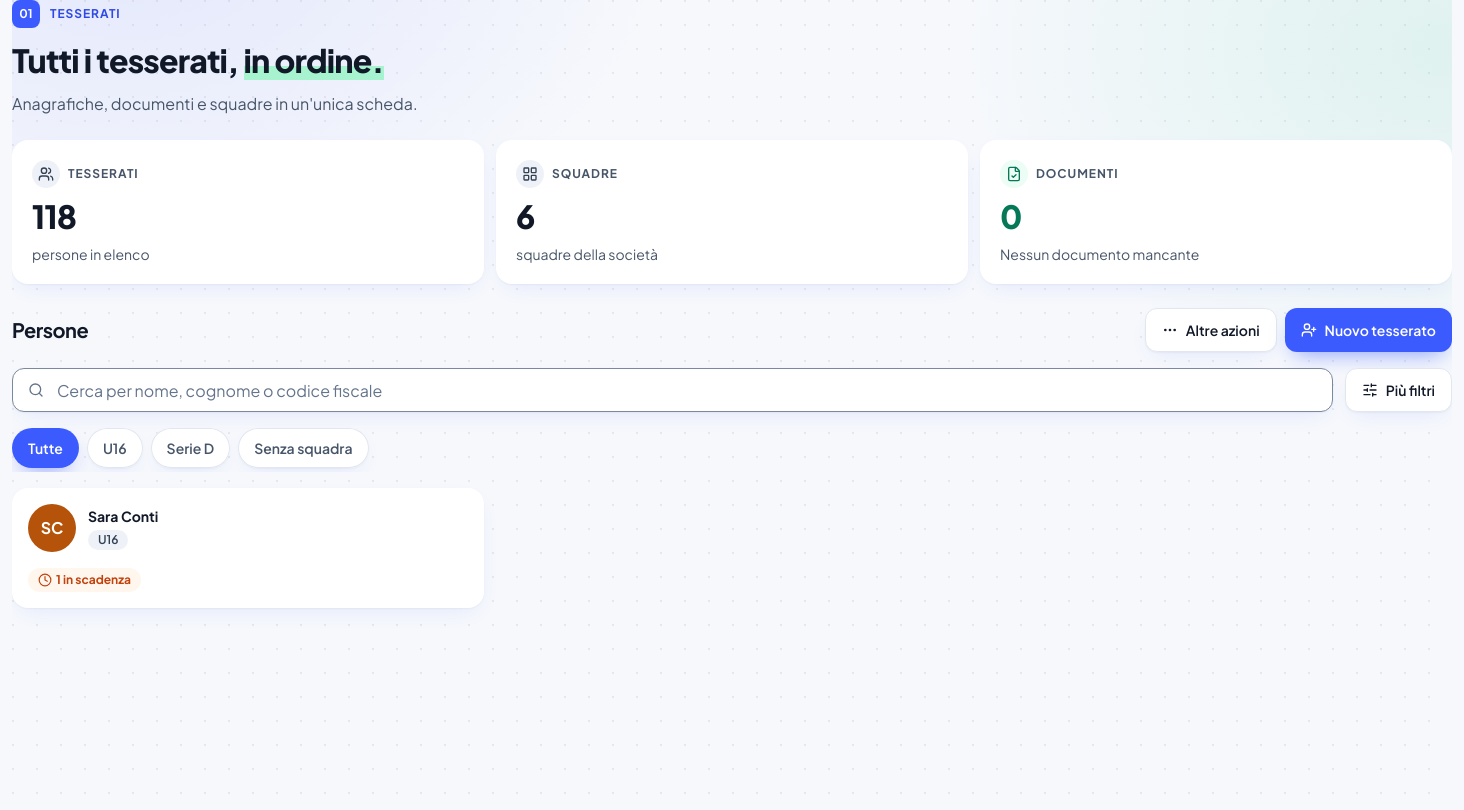
Scenario: MembersPage › offers to clear the filters when a search finds nobody
Expected: the text "Sara Conti" is shown, x1=88 y1=506 x2=158 y2=526
Type "zzz" into the search field named "Cerca tesserato" at (672, 390), box x1=12 y1=368 x2=1333 y2=412
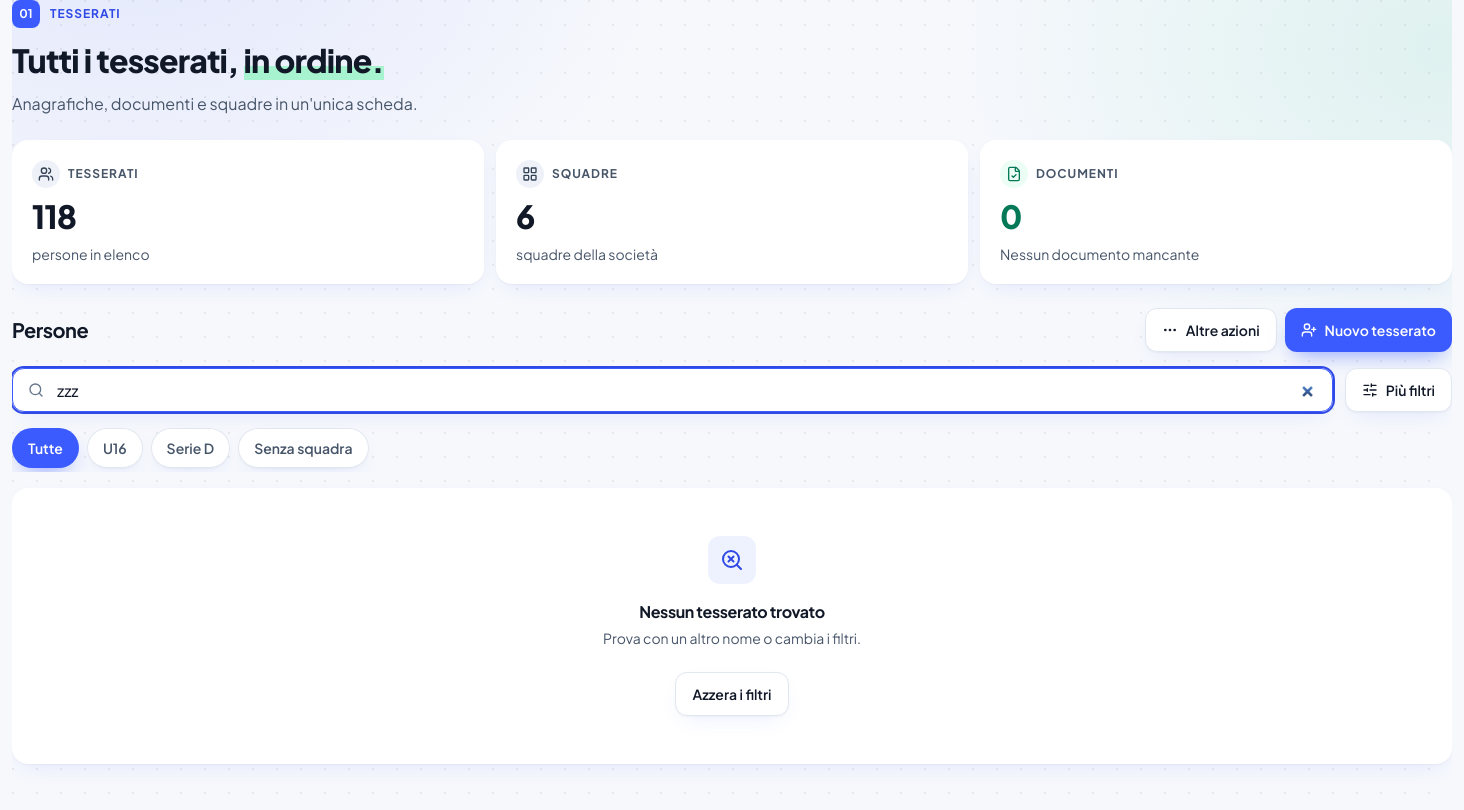
Now the heading "Nessun tesserato trovato" is shown, box x1=639 y1=600 x2=825 y2=624
Click the button "Azzera i filtri" at (732, 694), box x1=676 y1=672 x2=789 y2=716
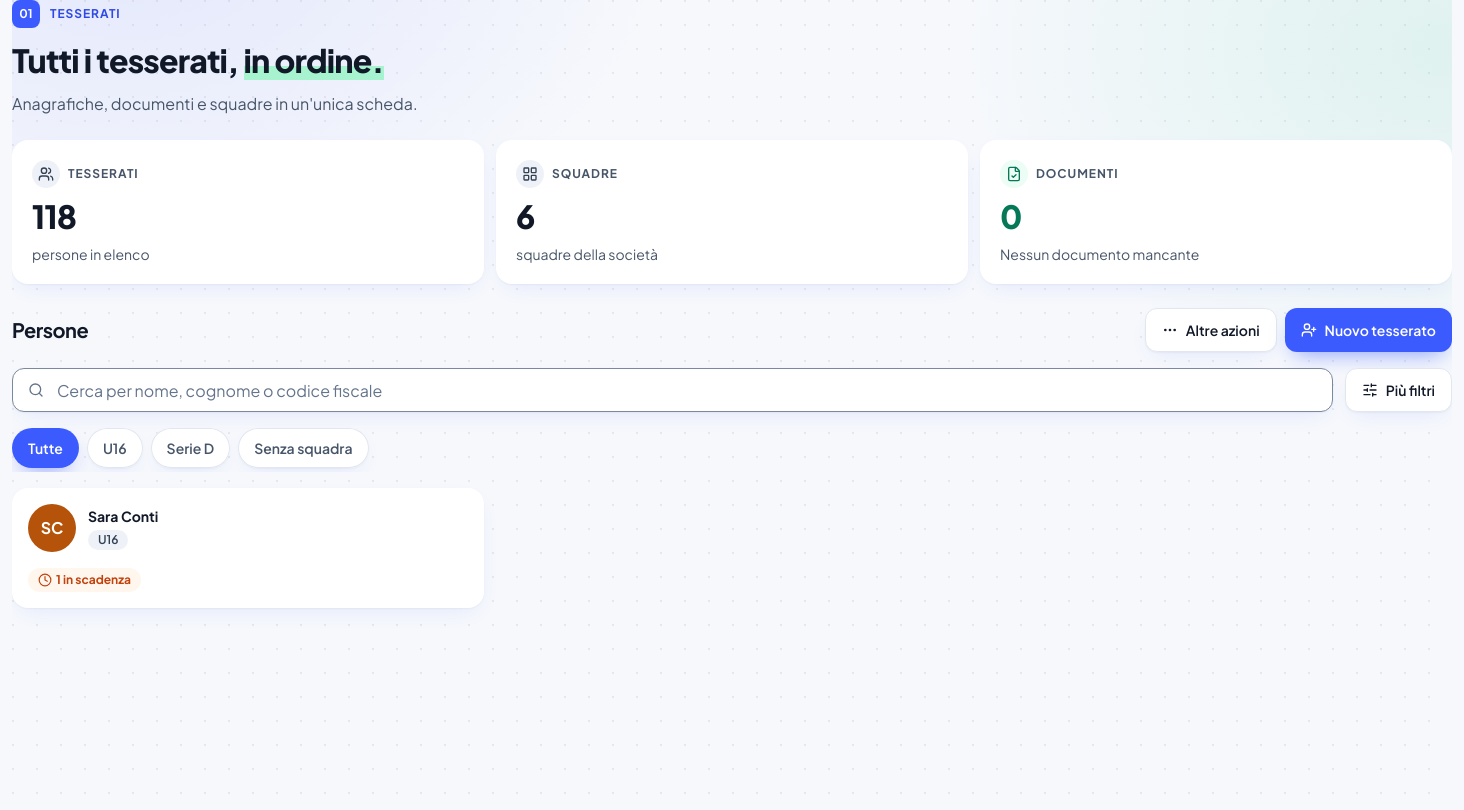
Now the text "Sara Conti" is shown, box x1=88 y1=506 x2=158 y2=526
